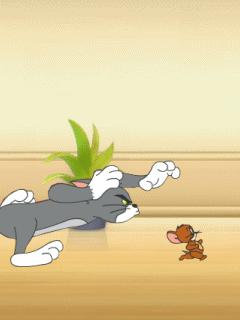jerry: (164, 223, 207, 262)
